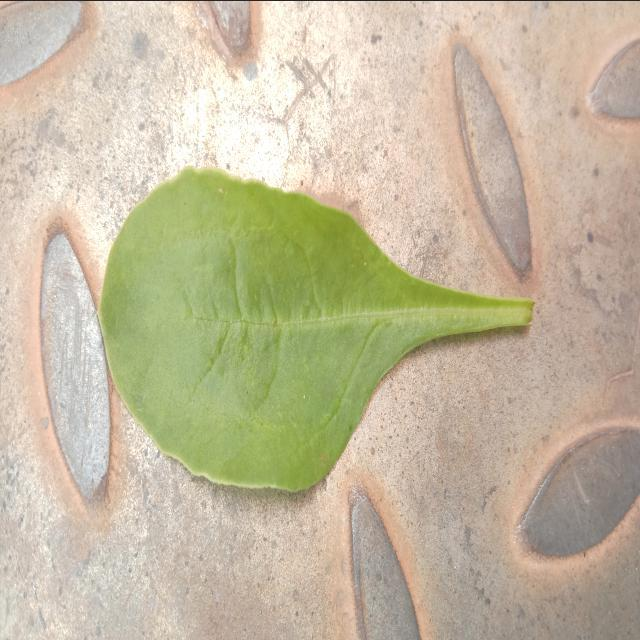leaf: (96, 163, 534, 493)
